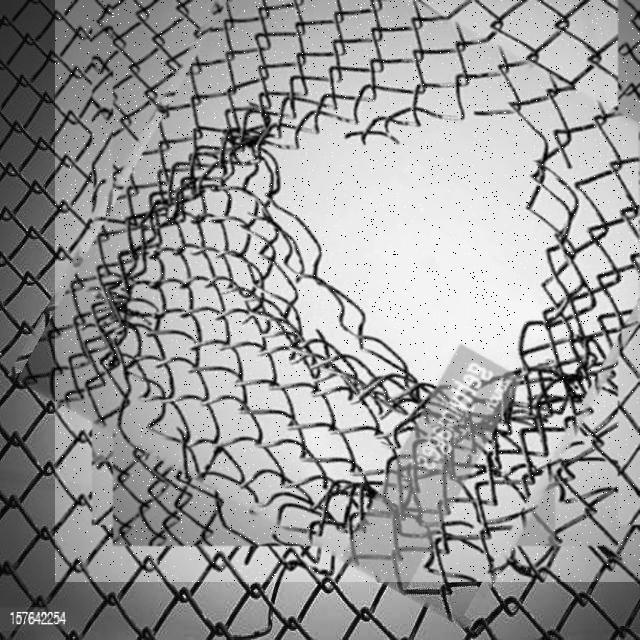anomaly-fence: (55, 0, 640, 582)
